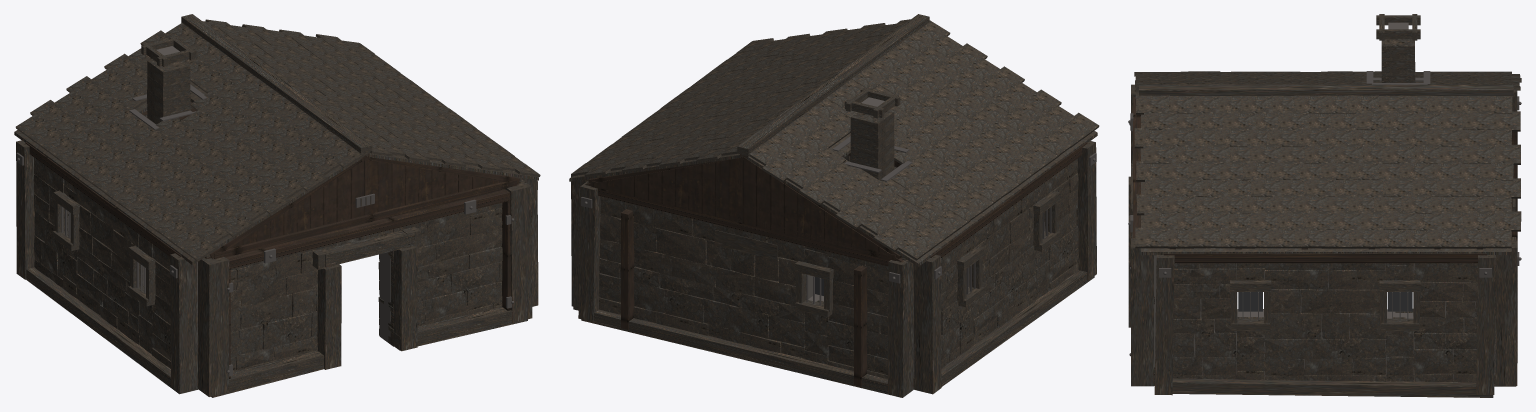
File: complete_blacksmith_preview.glb
3 renders of one model, left to right at view 1: azimuth 30°, elevation 25°; view 2: azimuth 150°, elevation 25°; view 3: azimuth 270°, elevation 25°, orthographic. The views are drawn at different scales.
Visible parts, largest first — view 1: ASSET_ROOF_Gable_FRONT, ASSET_LoadBearingCornerPier_-1, ASSET_LEFT_LEFT_load_corner_1, ASSET_TimberTopBrace, ASSET_ROOF_HeavySlateRidge, ASSET_LoadBearingCornerPier_1, ASSET_LEFT_LEFT_continuous_plinth, ASSET_ROOF_FRONT_GableLowerTie, ASSET_LoadBearingDoorPier_1, ASSET_LoadBearingDoorPier_-1, ASSET_LEFT_LEFT_load_corner_-1, ASSET_SolidStoneFoundation_1 (+46 smaller); view 2: ASSET_ROOF_Gable_REAR, ASSET_REAR_REAR_continuous_plinth, ASSET_LEFT_LEFT_load_corner_-1, ASSET_REAR_REAR_load_corner_1, ASSET_ROOF_HeavySlateRidge, ASSET_LEFT_LEFT_continuous_plinth, ASSET_REAR_REAR_load_corner_-1, ASSET_LEFT_LEFT_load_corner_1, ASSET_REAR_REAR_wall_plate, ASSET_REAR_REAR_oak_utility_pier_-1, ASSET_LEFT_LEFT_wall_plate, ASSET_REAR_REAR_oak_utility_pier_1 (+62 smaller); view 3: ASSET_RIGHT_RIGHT_continuous_plinth, ASSET_ROOF_HeavySlateRidge, ASSET_RIGHT_RIGHT_wall_plate, ASSET_LoadBearingCornerPier_1, ASSET_REAR_REAR_load_corner_-1, ASSET_RIGHT_RIGHT_load_corner_-1, ASSET_RIGHT_RIGHT_load_corner_1, ASSET_ROOF_RightSlopingDeck, ASSET_RIGHT_RIGHT_solid_2_stone_3_0, ASSET_RIGHT_RIGHT_solid_2_stone_5_0, ASSET_RIGHT_RIGHT_solid_4_stone_6_0, ASSET_RIGHT_RIGHT_solid_2_stone_4_2 (+161 smaller).
Boxes of the visible parts, bbox=[...] form: ASSET_ROOF_Gable_FRONT: bbox=[205, 160, 521, 259]; ASSET_LoadBearingCornerPier_-1: bbox=[198, 257, 229, 396]; ASSET_LEFT_LEFT_load_corner_1: bbox=[170, 253, 197, 392]; ASSET_TimberTopBrace: bbox=[226, 189, 510, 268]; ASSET_ROOF_HeavySlateRidge: bbox=[181, 14, 372, 154]; ASSET_LoadBearingCornerPier_1: bbox=[505, 179, 532, 323]; ASSET_LEFT_LEFT_continuous_plinth: bbox=[26, 267, 198, 394]; ASSET_ROOF_FRONT_GableLowerTie: bbox=[214, 180, 516, 258]; ASSET_LoadBearingDoorPier_1: bbox=[391, 246, 417, 351]; ASSET_LoadBearingDoorPier_-1: bbox=[317, 264, 341, 369]; ASSET_LEFT_LEFT_load_corner_-1: bbox=[16, 140, 34, 279]; ASSET_SolidStoneFoundation_1: bbox=[388, 307, 527, 350]; ASSET_ROOF_Gable_REAR: bbox=[585, 157, 903, 262]; ASSET_REAR_REAR_continuous_plinth: bbox=[581, 309, 900, 397]; ASSET_LEFT_LEFT_load_corner_-1: bbox=[913, 255, 941, 394]; ASSET_REAR_REAR_load_corner_1: bbox=[888, 260, 913, 397]; ASSET_ROOF_HeavySlateRidge: bbox=[737, 14, 929, 156]; ASSET_LEFT_LEFT_continuous_plinth: bbox=[913, 270, 1094, 388]; ASSET_REAR_REAR_load_corner_-1: bbox=[578, 181, 600, 322]; ASSET_LEFT_LEFT_load_corner_1: bbox=[1077, 141, 1096, 280]; ASSET_REAR_REAR_wall_plate: bbox=[598, 189, 902, 266]; ASSET_REAR_REAR_oak_utility_pier_-1: bbox=[621, 209, 634, 329]; ASSET_LEFT_LEFT_wall_plate: bbox=[930, 142, 1087, 257]; ASSET_REAR_REAR_oak_utility_pier_1: bbox=[854, 265, 867, 386]; ASSET_RIGHT_RIGHT_continuous_plinth: bbox=[1172, 377, 1493, 397]; ASSET_ROOF_HeavySlateRidge: bbox=[1139, 84, 1513, 97]; ASSET_RIGHT_RIGHT_wall_plate: bbox=[1163, 253, 1486, 263]; ASSET_LoadBearingCornerPier_1: bbox=[1131, 238, 1153, 386]; ASSET_REAR_REAR_load_corner_-1: bbox=[1495, 240, 1517, 385]; ASSET_RIGHT_RIGHT_load_corner_-1: bbox=[1154, 254, 1174, 395]; ASSET_RIGHT_RIGHT_load_corner_1: bbox=[1476, 255, 1495, 394]; ASSET_ROOF_RightSlopingDeck: bbox=[1141, 114, 1511, 255]; ASSET_RIGHT_RIGHT_solid_2_stone_3_0: bbox=[1264, 311, 1321, 339]; ASSET_RIGHT_RIGHT_solid_2_stone_5_0: bbox=[1265, 268, 1328, 289]; ASSET_RIGHT_RIGHT_solid_4_stone_6_0: bbox=[1414, 263, 1470, 282]; ASSET_RIGHT_RIGHT_solid_2_stone_4_2: bbox=[1335, 289, 1379, 313].
Bounding box in the file's own units: 9.13 × 5.65 × 8.17.
Materials: 16 (13 with a texture image).
